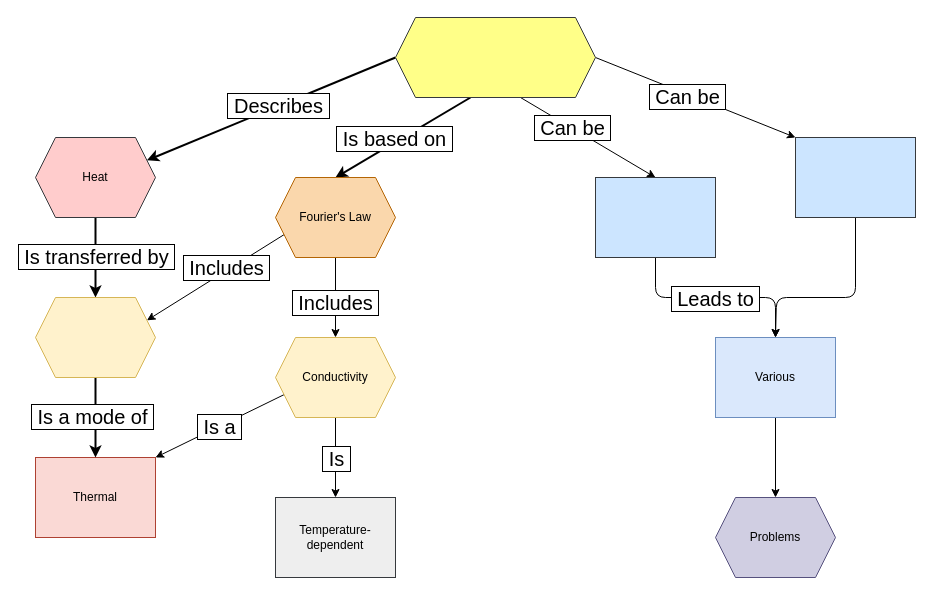
Some shapes in this 933 by 595 pixel diagram are drawn without their labels. The centre of each missing label's shape, as x and y in pixels:
"Conduction" belongs at point 95,337.
"Heat Concept Equations" belongs at point 495,57.
"Steady-State" belongs at point 655,217.
"Transient" belongs at point 855,177.
